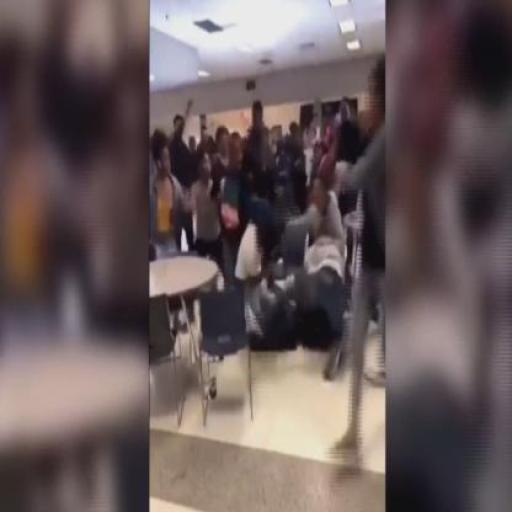Fighting: (156, 102, 387, 379)
